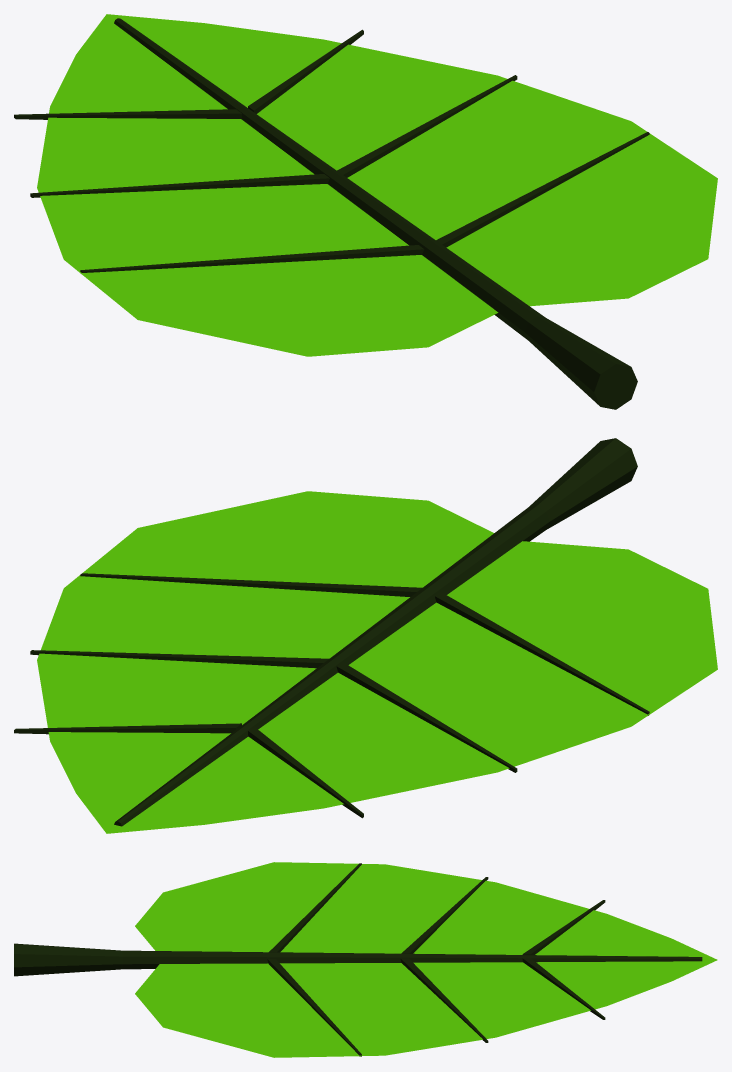
Rendered from Leaf1.fbx.
3 renders of one model, top to bottom at view 1: azimuth 30°, elevation 25°; view 2: azimuth 150°, elevation 25°; view 3: azimuth 270°, elevation 25°, orthographic. The views are drawn at different scales.
Visible parts, largest first — view 1: Leaf1; view 2: Leaf1; view 3: Leaf1.
Boxes of the visible parts, left/top/right/bottom form: Leaf1: left=14, top=14, right=717, bottom=409; Leaf1: left=14, top=438, right=717, bottom=833; Leaf1: left=14, top=862, right=717, bottom=1057.
Bounding box in the file's own units: 79.61 × 121 × 6.02.
